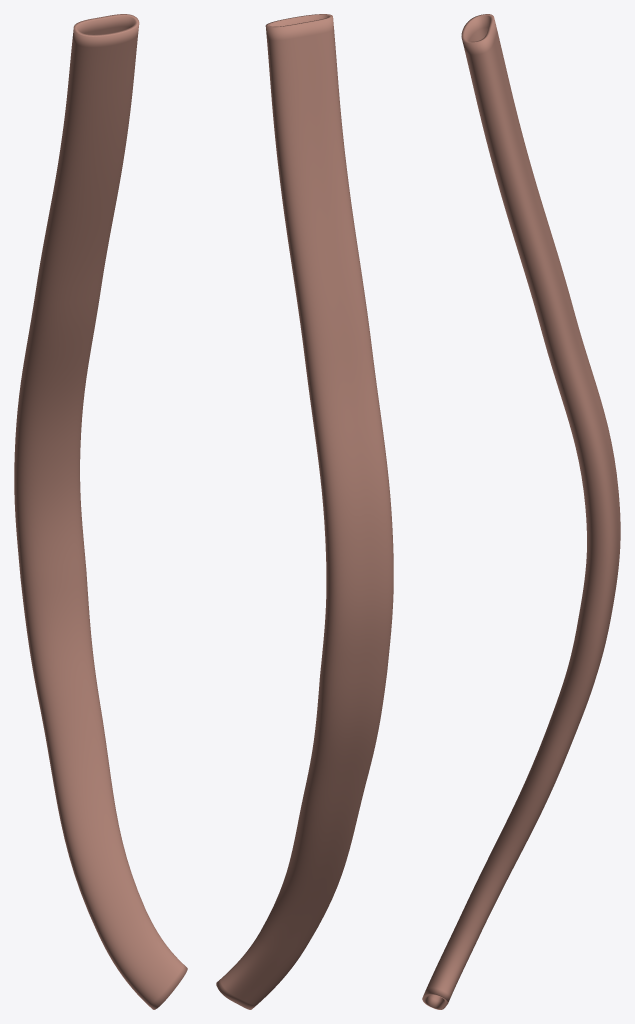
Rendered from detail-digestive-thorax.glb.
The picture shows the model from 3 angles, left to right: view 1: azimuth 30°, elevation 25°; view 2: azimuth 210°, elevation 25°; view 3: azimuth 270°, elevation 25°; orthographic projection. The views are drawn at different scales.
Visible parts, largest first — view 1: za-98b69a9c644f4c9f; view 2: za-98b69a9c644f4c9f; view 3: za-98b69a9c644f4c9f.
Boxes of the visible parts, bbox=[...] form: za-98b69a9c644f4c9f: bbox=[14, 14, 187, 1009]; za-98b69a9c644f4c9f: bbox=[216, 14, 393, 1009]; za-98b69a9c644f4c9f: bbox=[422, 14, 620, 1009].
Size of the model in its own units: 0.0273 by 0.2815 by 0.0521.
